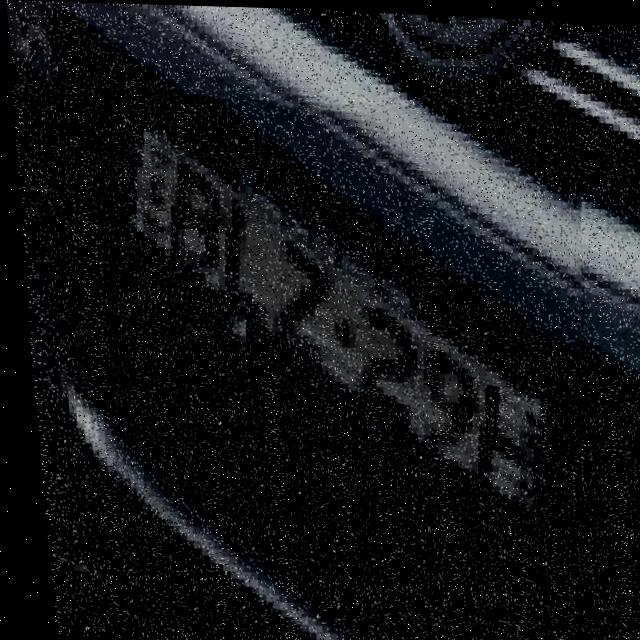LicensePlate: (78, 91, 600, 545)
